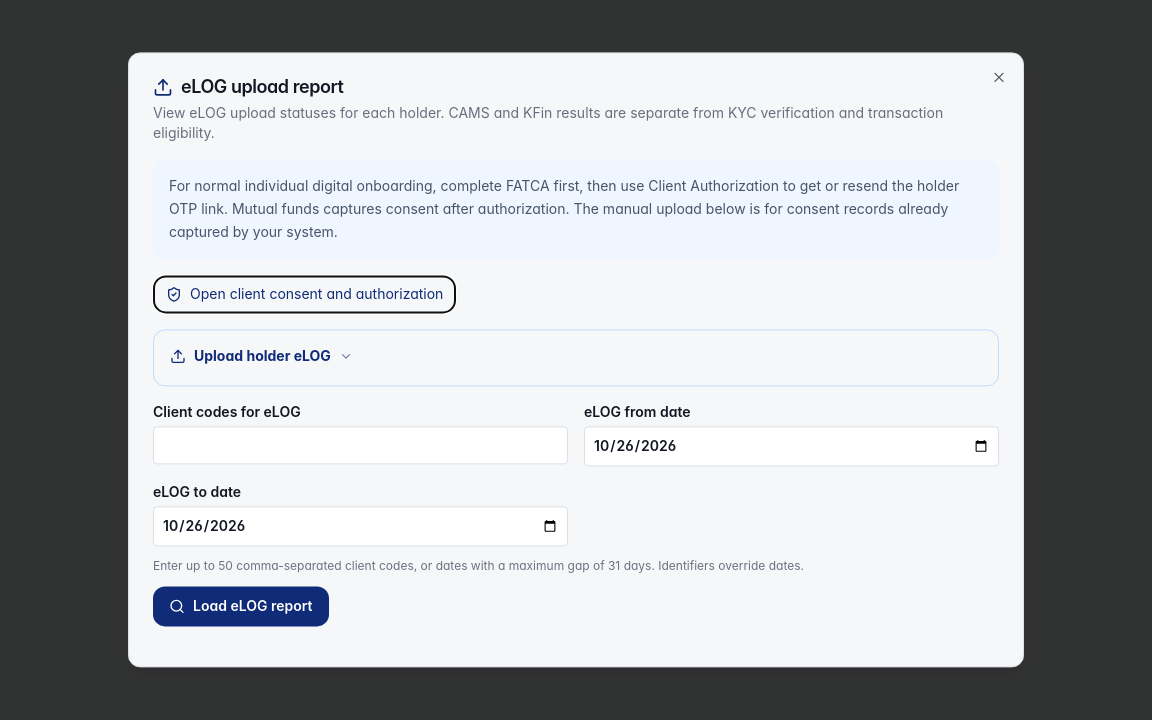
it: uses client-only filters and displays separate holder/RTA results with masked PAN
This screenshot has width=1152, height=720.
In the field labelled "Client codes for eLOG": [360, 446] box top-left (153, 427), bottom-right (568, 465), type "TEST001"
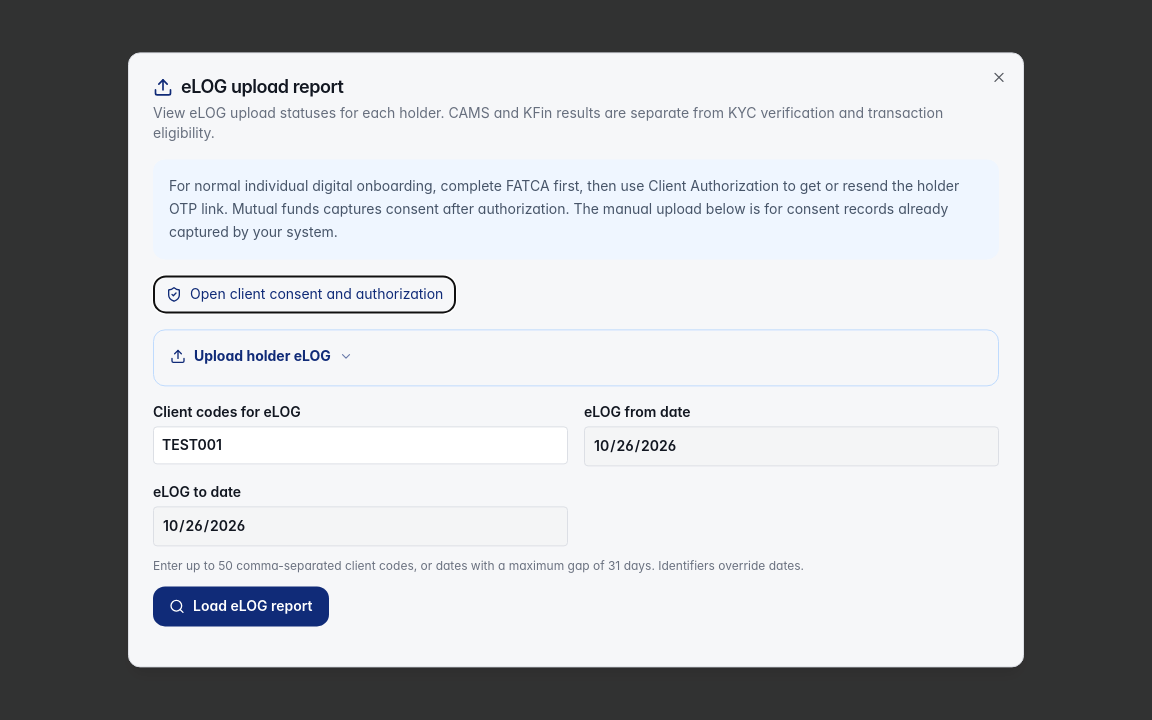
Click the button "Load eLOG report": [241, 607] box top-left (153, 587), bottom-right (329, 627)
(page scrolled)
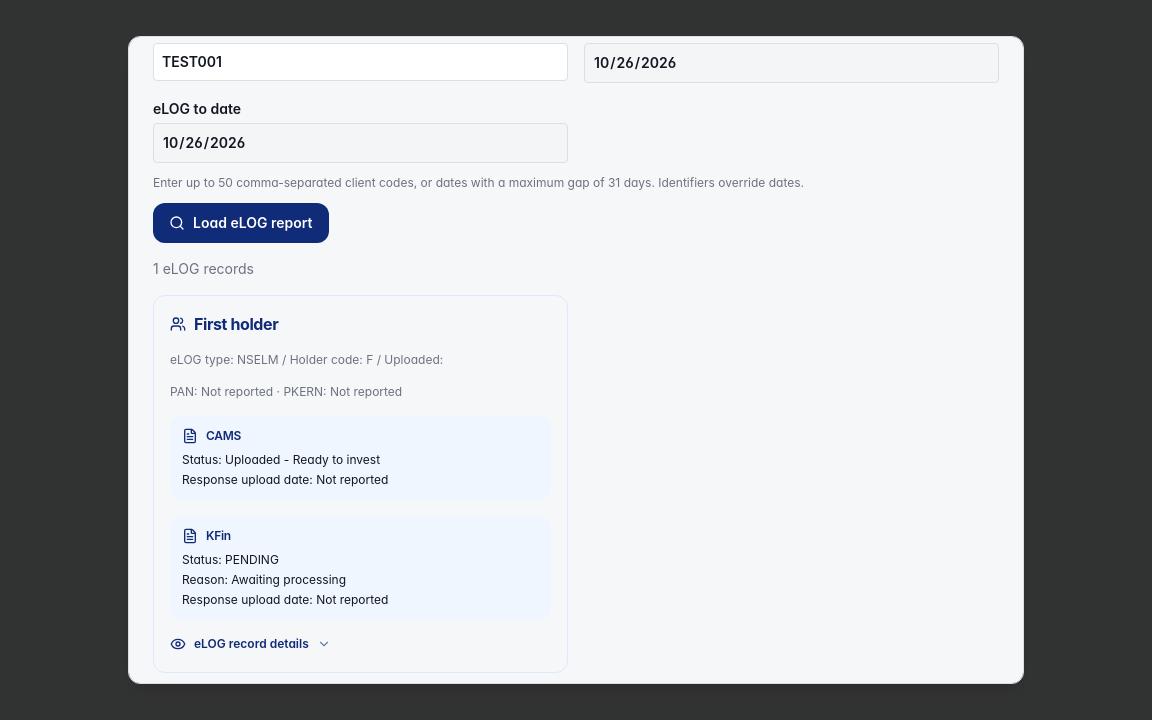
Expected: the heading "First holder" is shown, top-left (170, 314), bottom-right (278, 334)
Expected: the text "Status: Uploaded - Ready to invest" is shown, top-left (182, 452), bottom-right (380, 467)
Expected: the text "Reason: Awaiting processing" is shown, top-left (182, 572), bottom-right (346, 587)
